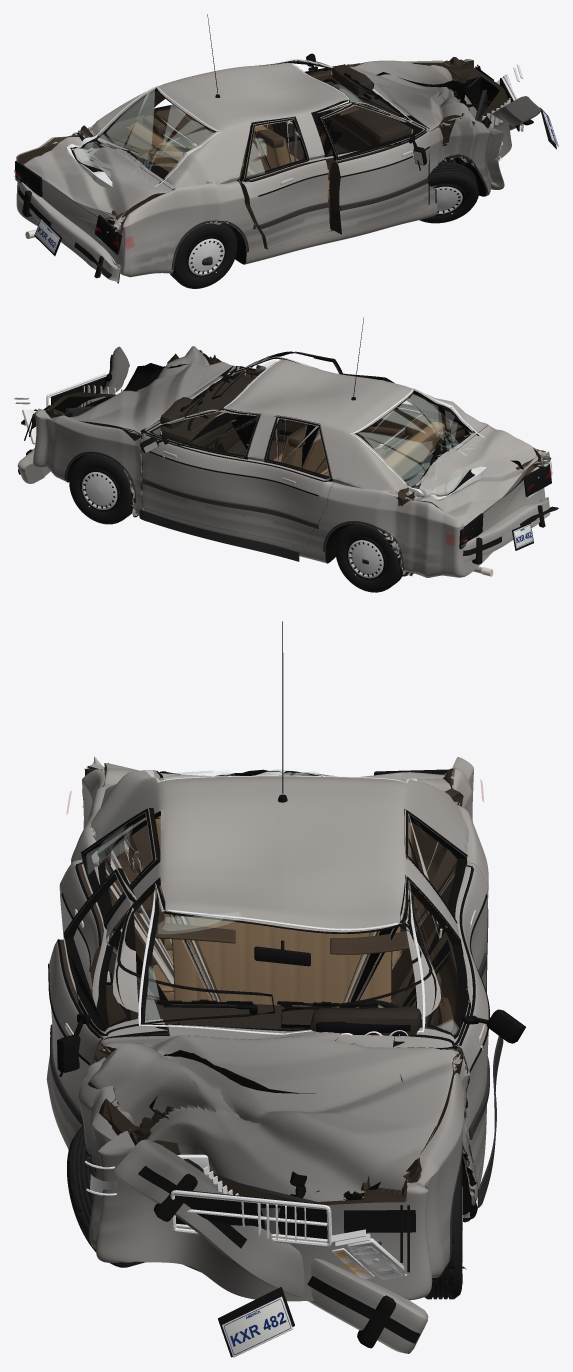
Rendered from sedan87_front_corner_R_d2.glb.
3 views of the same model, one above another, from view 1: azimuth 30°, elevation 25°; view 2: azimuth 150°, elevation 25°; view 3: azimuth 270°, elevation 25° (orthographic). The views are drawn at different scales.
Visible parts, largest first — view 1: Body, Door_FR, Interior, Trunk, Glass, Door_RR, Hood, Wheel_RR_mesh, Bumper_R, Ends, Wheel_FR_mesh, Trim_FR (+6 smaller); view 2: Body, Door_FL, Interior, Trunk, Door_RL, Glass, Hood, Wheel_FL_mesh, Wheel_RL_mesh, Ends, Trim, Bumper_R (+7 smaller); view 3: Body, Hood, Interior, Bumper_F, Ends, Door_FR, Door_FL, Glass, Door_RR, Trim_FR, Trim_FL, Trim (+7 smaller).
Part boxes in pixels (bbox=[...]): Body: bbox=[16, 57, 511, 277]; Door_FR: bbox=[318, 103, 430, 234]; Interior: bbox=[128, 64, 414, 200]; Trunk: bbox=[24, 132, 171, 220]; Glass: bbox=[65, 59, 412, 187]; Door_RR: bbox=[240, 117, 330, 249]; Hood: bbox=[345, 60, 476, 131]; Wheel_RR_mesh: bbox=[169, 223, 237, 288]; Bumper_R: bbox=[18, 182, 120, 283]; Ends: bbox=[15, 64, 558, 255]; Wheel_FR_mesh: bbox=[419, 161, 478, 223]; Trim_FR: bbox=[321, 96, 429, 210]; Body: bbox=[33, 350, 551, 577]; Door_FL: bbox=[140, 409, 261, 532]; Interior: bbox=[158, 375, 444, 476]; Trunk: bbox=[407, 426, 541, 526]; Door_RL: bbox=[240, 415, 334, 547]; Glass: bbox=[160, 356, 486, 500]; Hood: bbox=[69, 346, 233, 435]; Wheel_FL_mesh: bbox=[69, 454, 132, 524]; Wheel_RL_mesh: bbox=[335, 523, 402, 592]; Ends: bbox=[14, 373, 551, 550]; Trim: bbox=[64, 317, 404, 569]; Bumper_R: bbox=[463, 497, 558, 564]; Body: bbox=[71, 756, 488, 1301]; Hood: bbox=[87, 1034, 460, 1201]; Interior: bbox=[126, 815, 439, 1036]; Bumper_F: bbox=[114, 1139, 428, 1353]; Ends: bbox=[82, 769, 449, 1357]; Door_FR: bbox=[46, 868, 167, 1149]; Door_FL: bbox=[393, 875, 488, 1182]; Glass: bbox=[138, 769, 425, 1034]; Door_RR: bbox=[59, 808, 160, 1025]; Trim_FR: bbox=[48, 869, 274, 1125]; Trim_FL: bbox=[281, 876, 525, 1139]; Trim: bbox=[83, 621, 503, 1261].
Size of the model in its own units: 4.91 by 2.14 by 2.03.
Materials: 33 (5 with a texture image).
